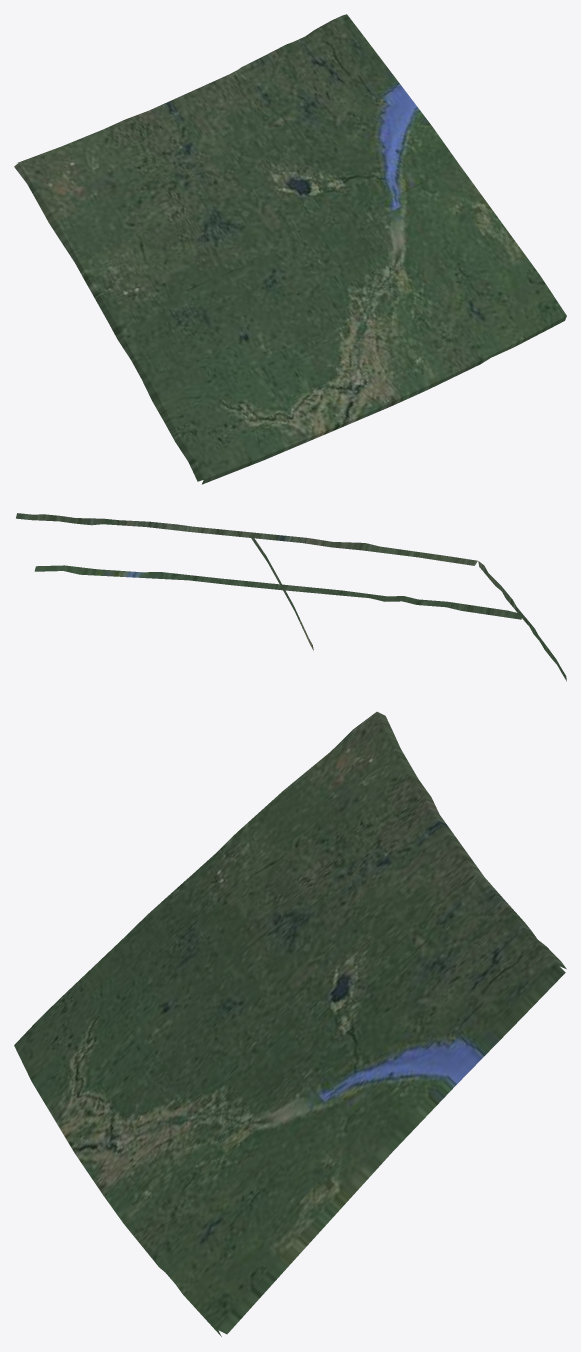
Rendered from AJVsH2yztgdB6XMbuzxEBTaSh_OkT5R26bKicYuMEO6nXxGYTwxSM_5SCdZ3F8hc7YzI8BNAA__v5yfJxm3Uxet4yfasHhPi0whzJSfHM5XaSM0TCOA6uckb-BntQrFHnIT3K8AlGyjR.glb.
3 views of the same model, one above another, from view 1: azimuth 30°, elevation 25°; view 2: azimuth 150°, elevation 25°; view 3: azimuth 270°, elevation 25° (orthographic). The views are drawn at different scales.
Bounding box in the file's own units: 947934 × 435076 × 696500.
Materials: 1 (1 with a texture image).
